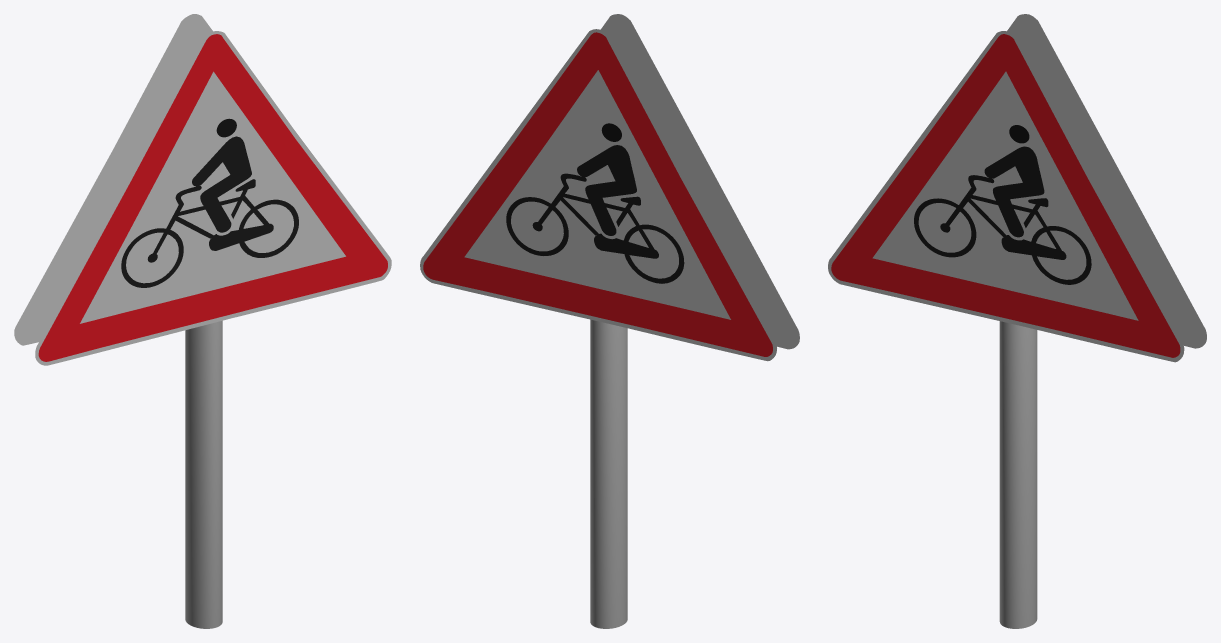
The model's file is señal.fbx.
3 views of the same model, side by side, from view 1: azimuth 30°, elevation 25°; view 2: azimuth 150°, elevation 25°; view 3: azimuth 330°, elevation 25° (orthographic).
Visible parts, largest first — view 1: Sign_Board_Cyclist; view 2: Sign_Board_Cyclist; view 3: Sign_Board_Cyclist.
Boxes of the visible parts, x1,y1,x2,y2 form: Sign_Board_Cyclist: (14,14,391,628); Sign_Board_Cyclist: (420,14,799,628); Sign_Board_Cyclist: (828,14,1206,628).
Bounding box in the file's own units: 692 × 1108 × 74.81.
